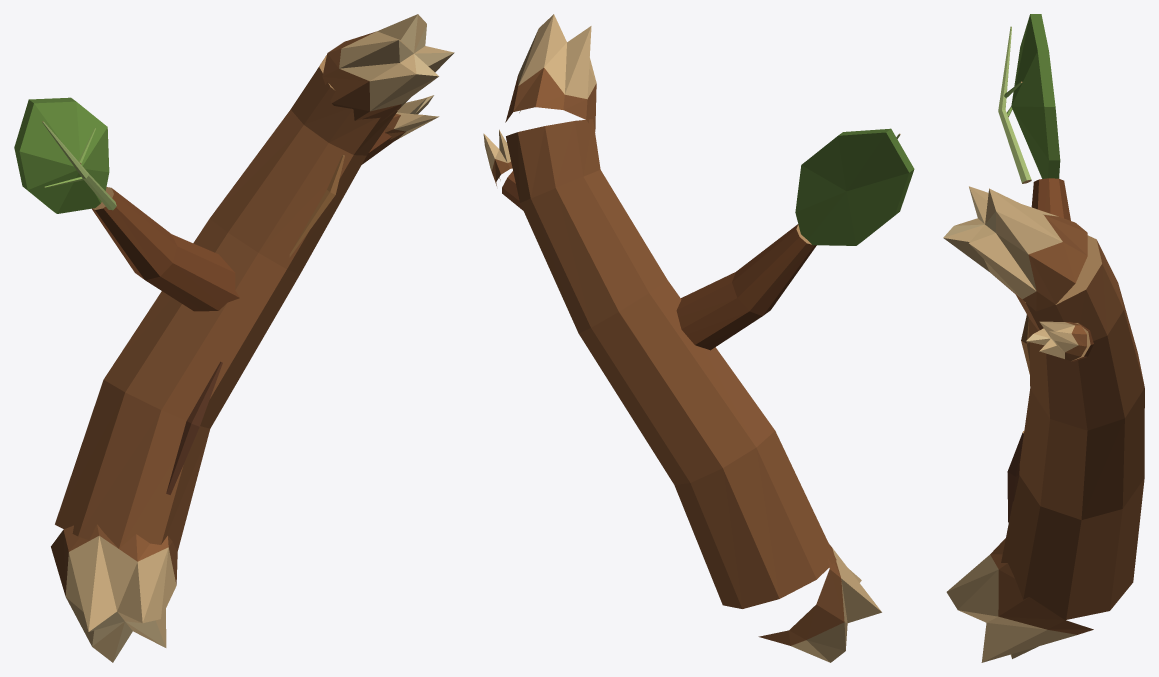
File: Twig.glb
The picture shows the model from 3 angles, left to right: view 1: azimuth 30°, elevation 25°; view 2: azimuth 150°, elevation 25°; view 3: azimuth 270°, elevation 25°; orthographic projection. The views are drawn at different scales.
Parts seen in each view (by area): view 1: Twig; view 2: Twig; view 3: Twig.
Boxes of the visible parts, <box> form: Twig: <box>14,14,454,662</box>; Twig: <box>483,14,914,662</box>; Twig: <box>943,14,1144,662</box>.
Bounding box in the file's own units: 0.6171 × 0.8041 × 0.2356.
